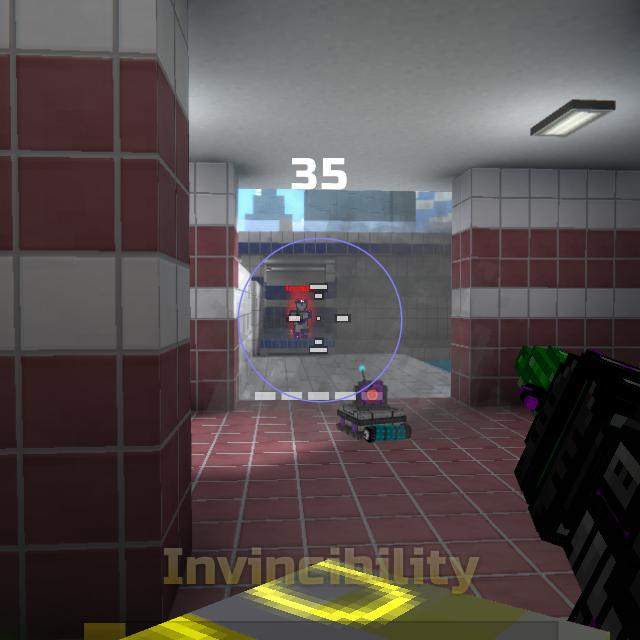Enemy: (289, 298, 312, 338)
